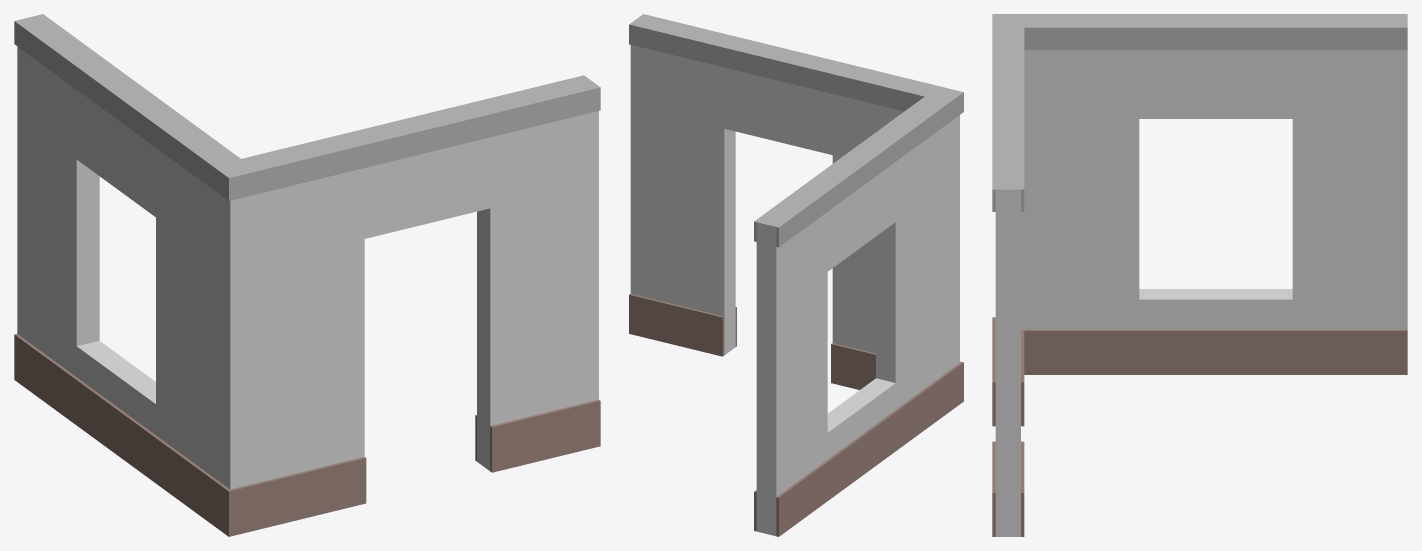
File: Wall02-04.fbx
3 views of the same model, side by side, from view 1: azimuth 30°, elevation 25°; view 2: azimuth 150°, elevation 25°; view 3: azimuth 270°, elevation 25° (orthographic). The views are drawn at different scales.
Visible parts, largest first — view 1: Wall02-04; view 2: Wall02-04; view 3: Wall02-04.
Boxes of the visible parts, <box> form: Wall02-04: <box>14,14,600,536</box>; Wall02-04: <box>629,14,963,536</box>; Wall02-04: <box>992,14,1407,536</box>.
Size of the model in its own units: 3.25 by 3.25 by 3.
